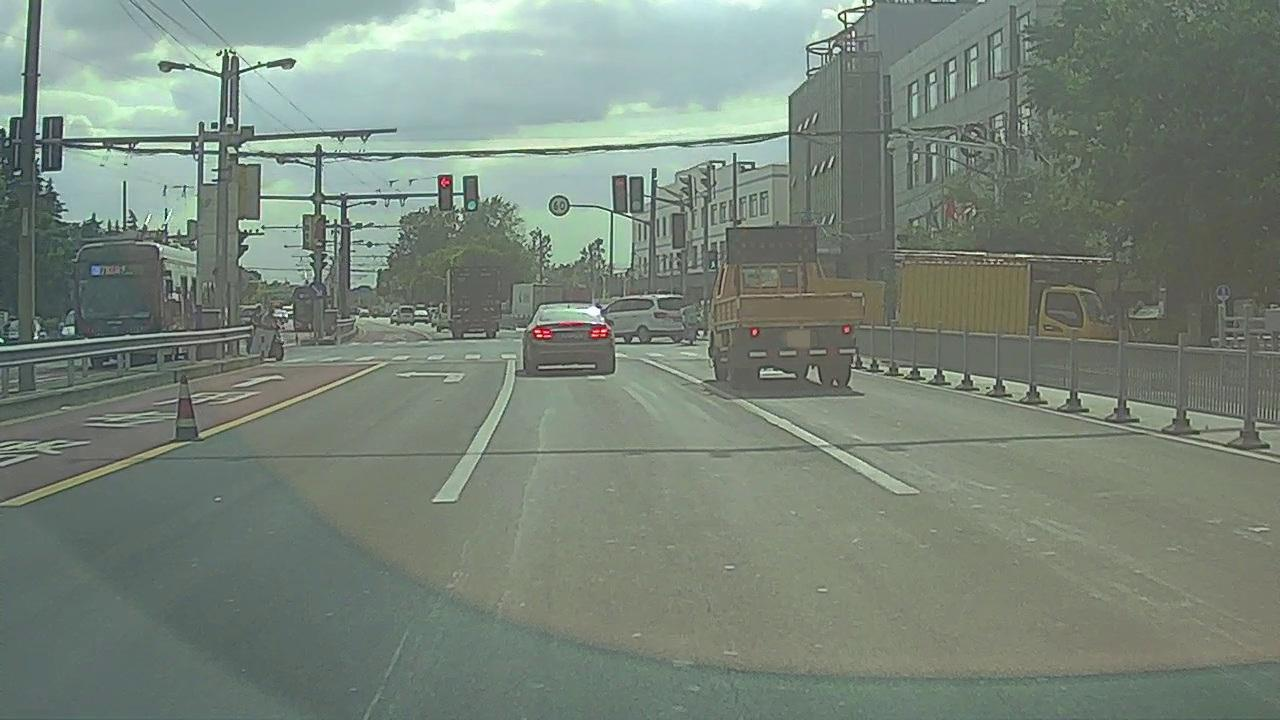traffic_light: (438, 175, 452, 210), (464, 176, 477, 211), (613, 176, 626, 211), (629, 177, 642, 212)
